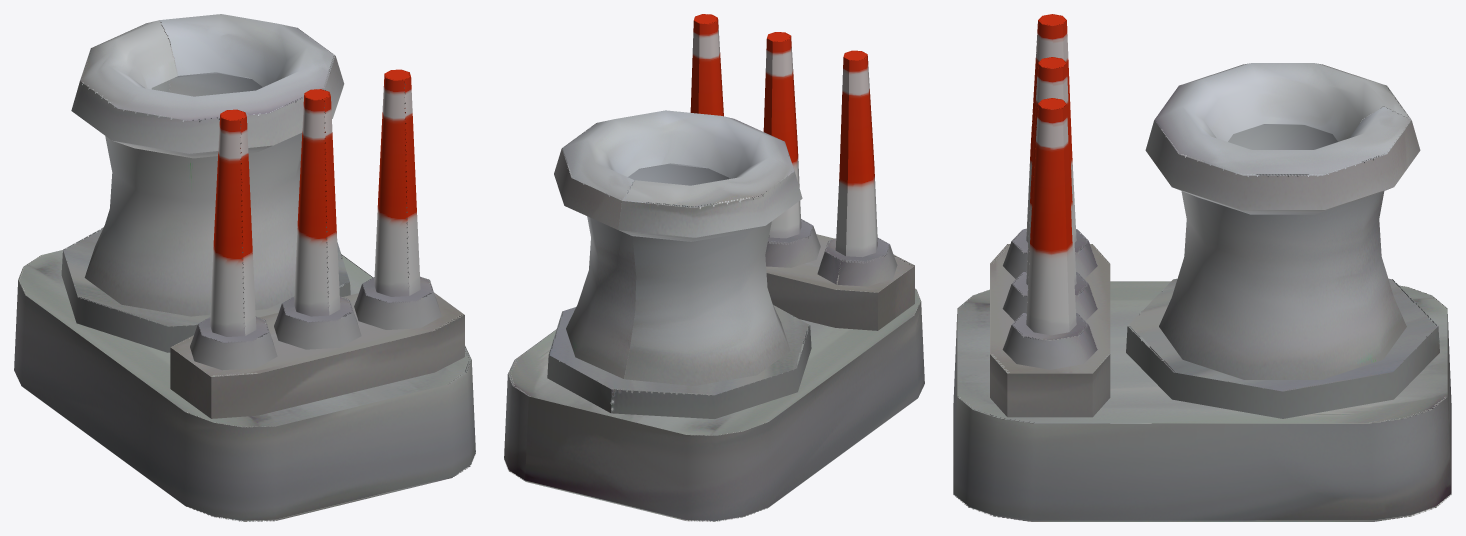
File: factoryFinal.FBX
3 renders of one model, left to right at view 1: azimuth 30°, elevation 25°; view 2: azimuth 150°, elevation 25°; view 3: azimuth 270°, elevation 25°, orthographic. The views are drawn at different scales.
Parts seen in each view (by area): view 1: Object001; view 2: Object001; view 3: Object001.
Boxes of the visible parts, x1,y1,x2,y2 form: Object001: (14, 14, 475, 521); Object001: (504, 14, 924, 521); Object001: (953, 14, 1451, 521).
Bounding box in the file's own units: 0.5924 × 0.8612 × 0.7383.
